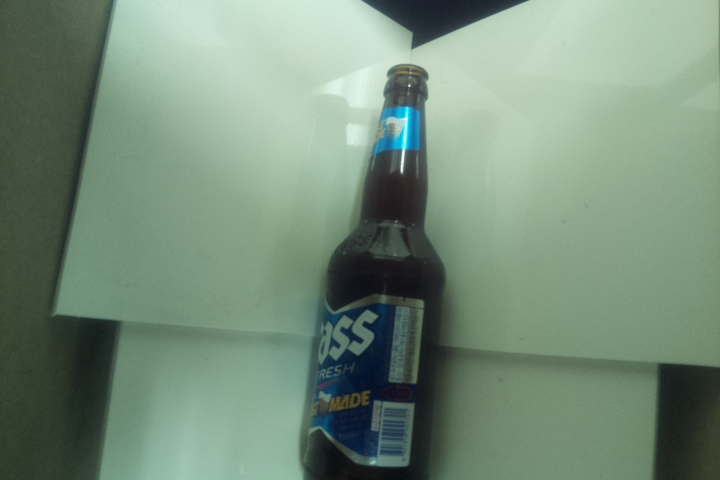makju: (295, 63, 447, 480)
